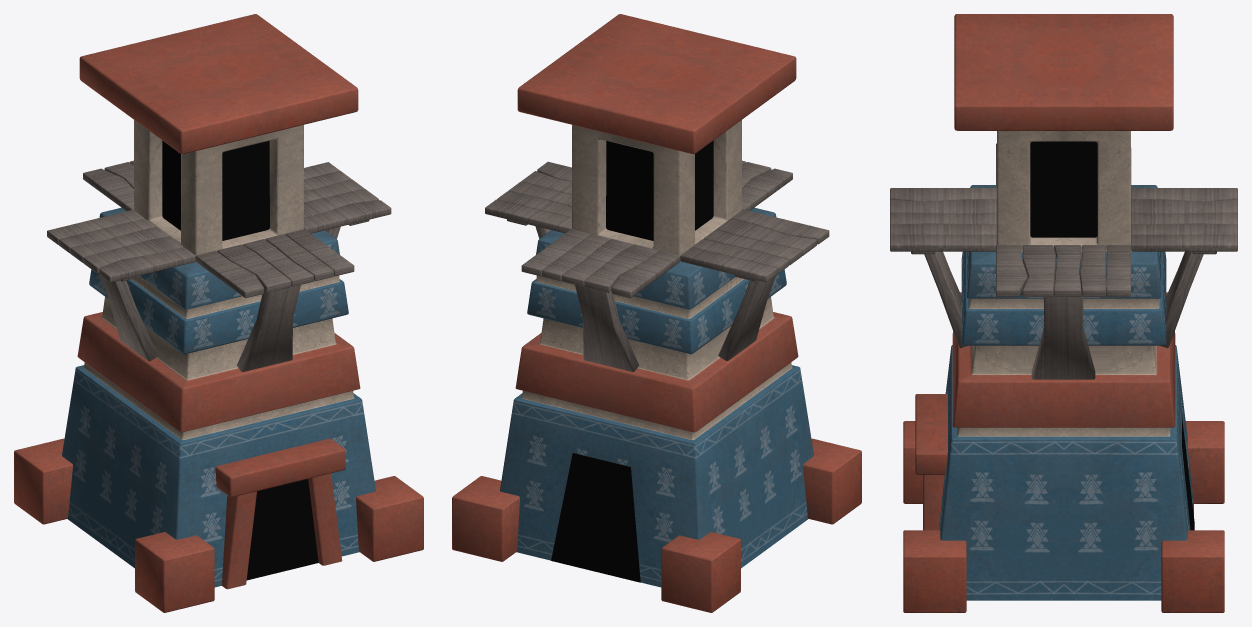
Rendered from TorreViglancia.fbx.
The picture shows the model from 3 angles, left to right: view 1: azimuth 30°, elevation 25°; view 2: azimuth 150°, elevation 25°; view 3: azimuth 270°, elevation 25°; orthographic projection. The views are drawn at different scales.
Parts seen in each view (by area): view 1: TorreVigilancia; view 2: TorreVigilancia; view 3: TorreVigilancia.
Boxes of the visible parts, bbox=[...] form: TorreVigilancia: bbox=[14, 14, 423, 612]; TorreVigilancia: bbox=[452, 14, 861, 612]; TorreVigilancia: bbox=[890, 14, 1237, 612].
Bounding box in the file's own units: 346 × 534 × 346.
Materials: 1 (1 with a texture image).
